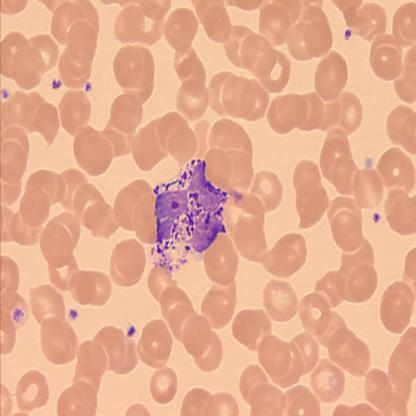Basophil: (152, 156, 228, 272)
